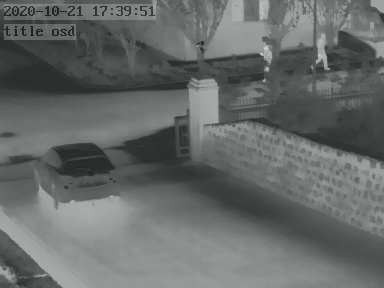person: (312, 32, 331, 74), (258, 42, 272, 84)
vehicle: (32, 142, 120, 211)
